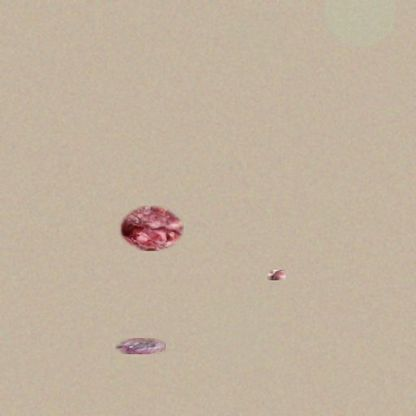rotten: (119, 206, 184, 251), (115, 338, 166, 354)
sprouted: (267, 270, 286, 280)
